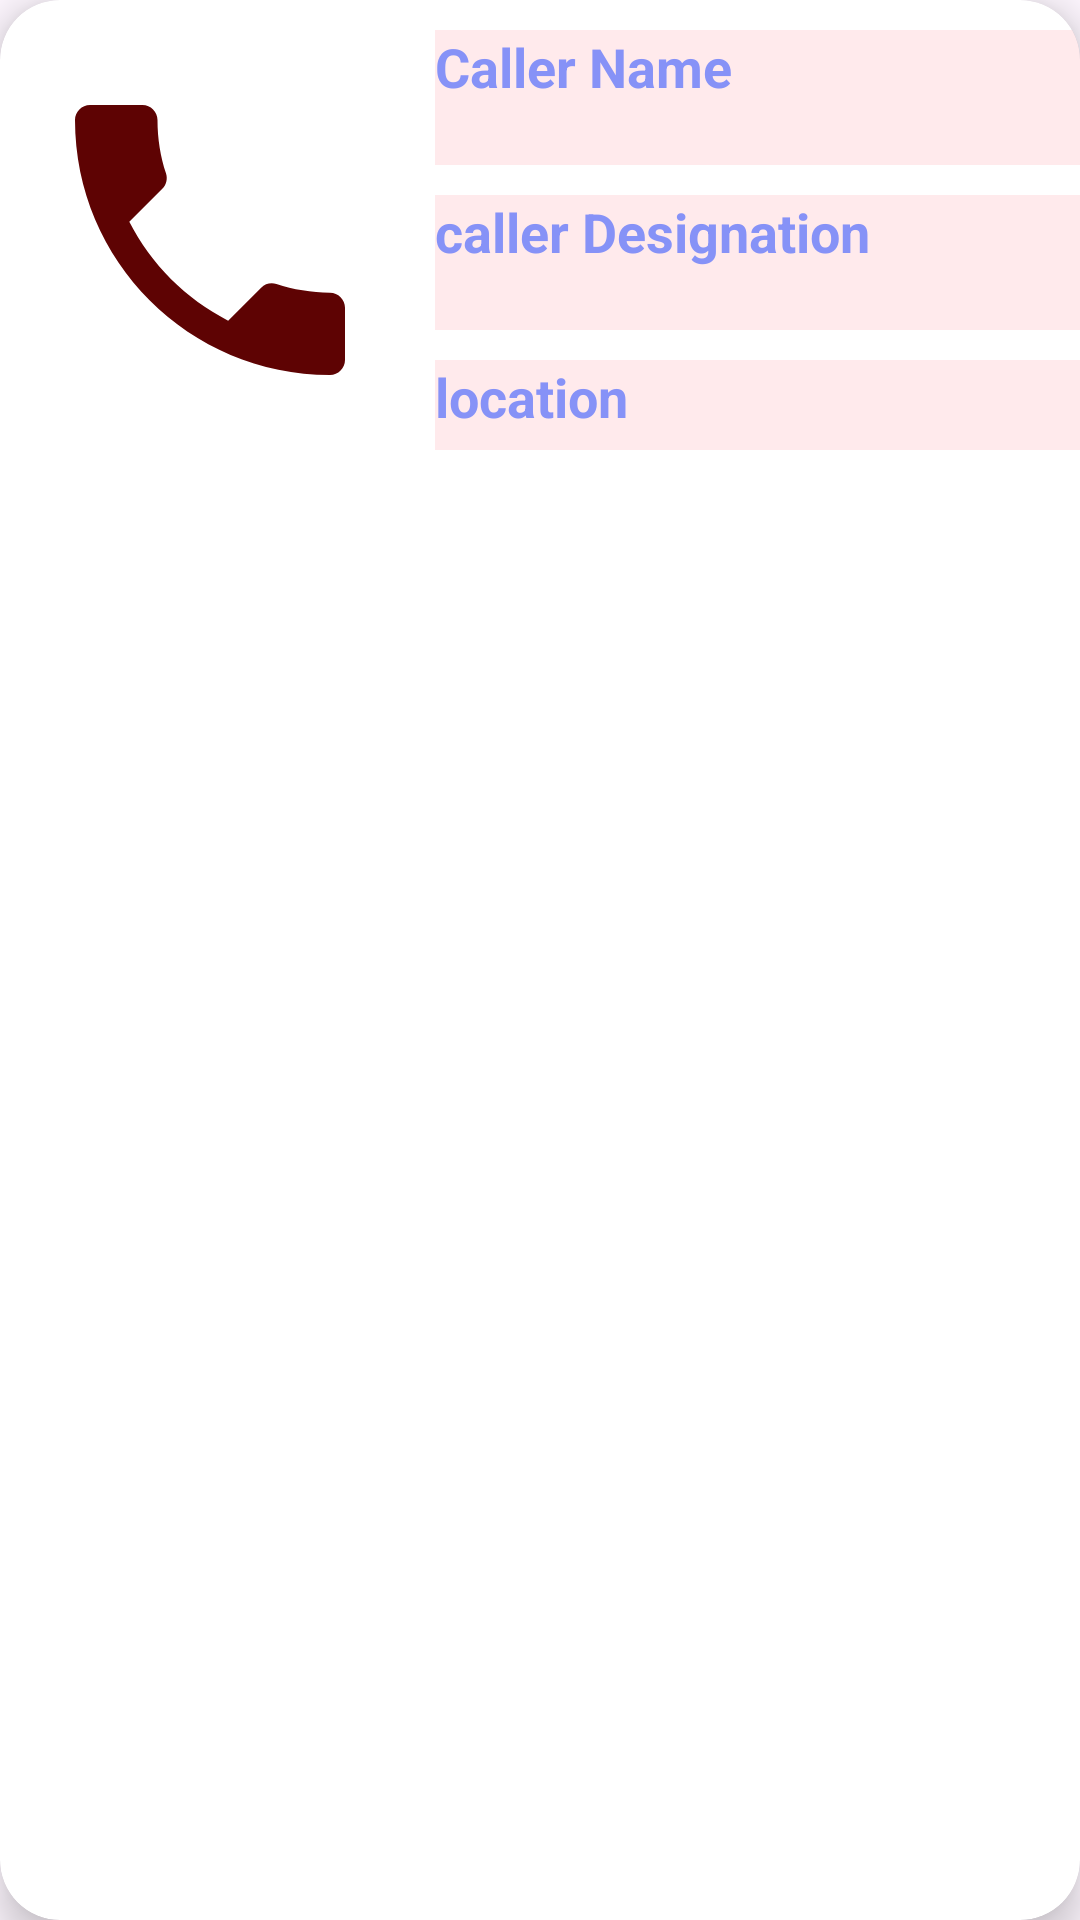

Where to tap for icons on this 1080*1920 app screen, as point (x, y):
local phone: point (210, 240)
